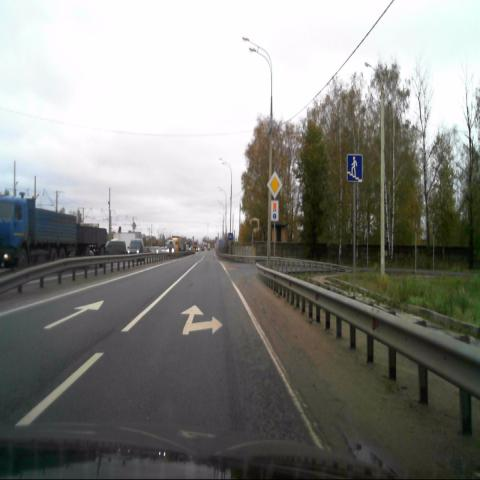6_7: (346, 154, 363, 184)
